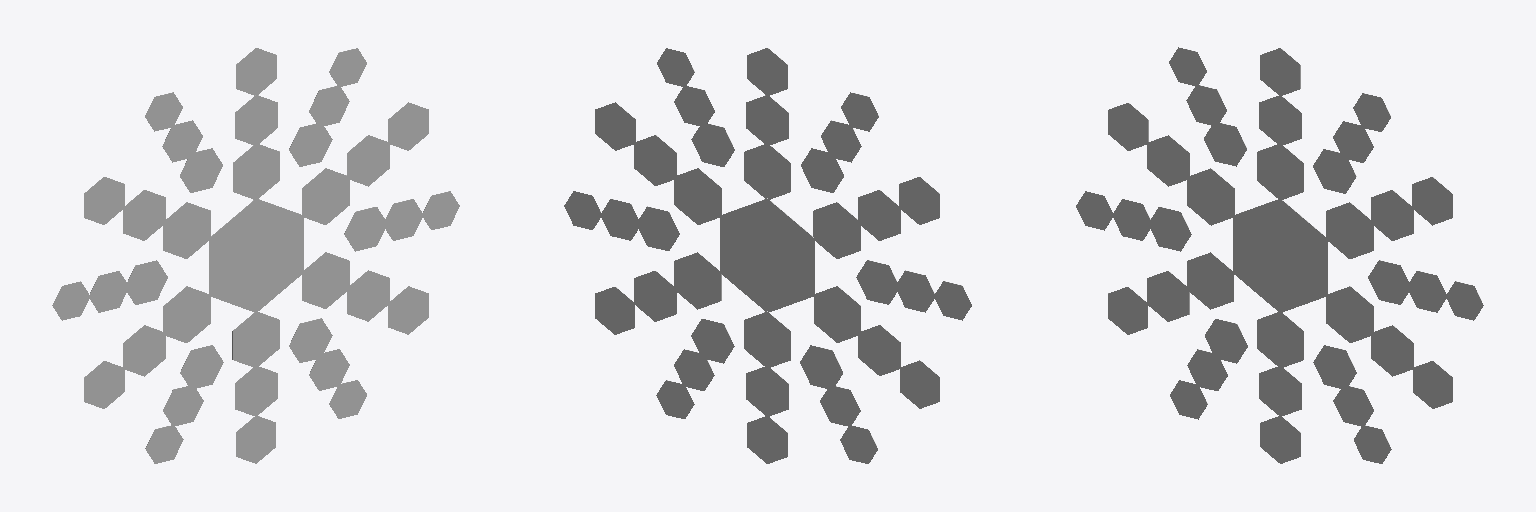
File: SnowFlower.obj
The picture shows the model from 3 angles: view 1: azimuth 30°, elevation 25°; view 2: azimuth 150°, elevation 25°; view 3: azimuth 330°, elevation 25°; orthographic projection.
Parts seen in each view (by area): view 1: polySurface172; view 2: polySurface172; view 3: polySurface172.
Part boxes in pixels (x1,y1,x2,y2): polySurface172: (52, 48, 459, 463); polySurface172: (564, 48, 971, 463); polySurface172: (1076, 47, 1483, 463).
Size of the model in its own units: 3.43 by 3.34 by 0.0081.